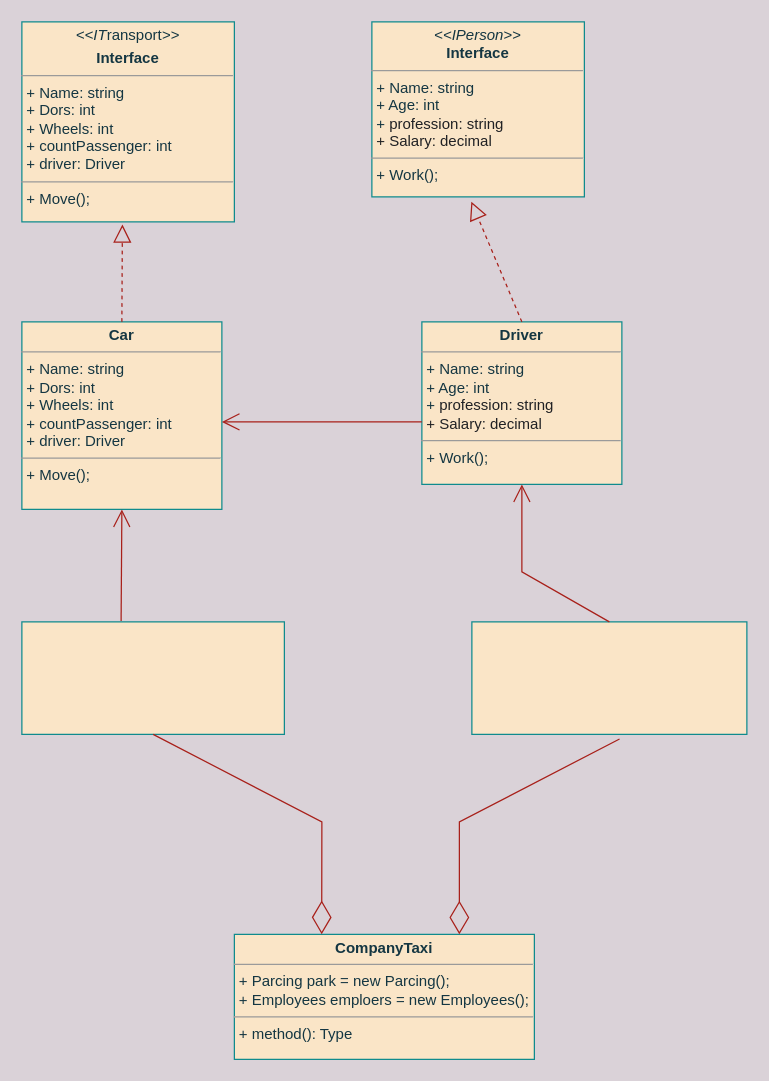
This 769x1081 diagram has some shape labels left out. Here are the shapes that lost their labels. From the top down, the box of each, then its label:
(21, 621, 284, 734): Parking + List<Car> cars = new List<Car>(); + addCar(Car car);
(471, 621, 747, 734): Employees + List<Driver> cars = new List<Driver>(); + addEmloers(Driver car);
